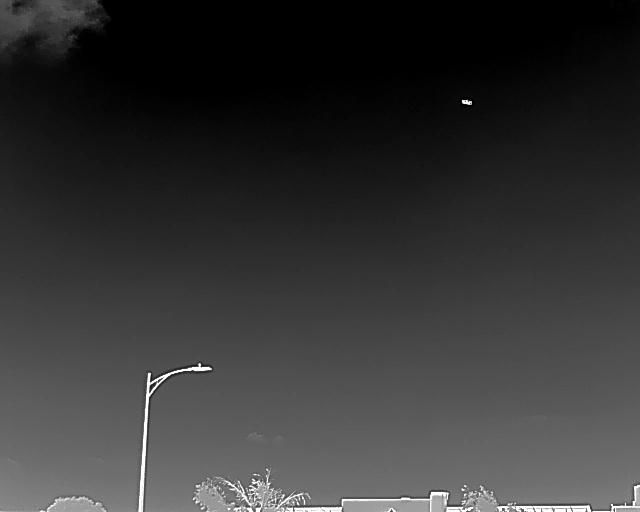fpv-drone: (460, 98, 472, 106)
